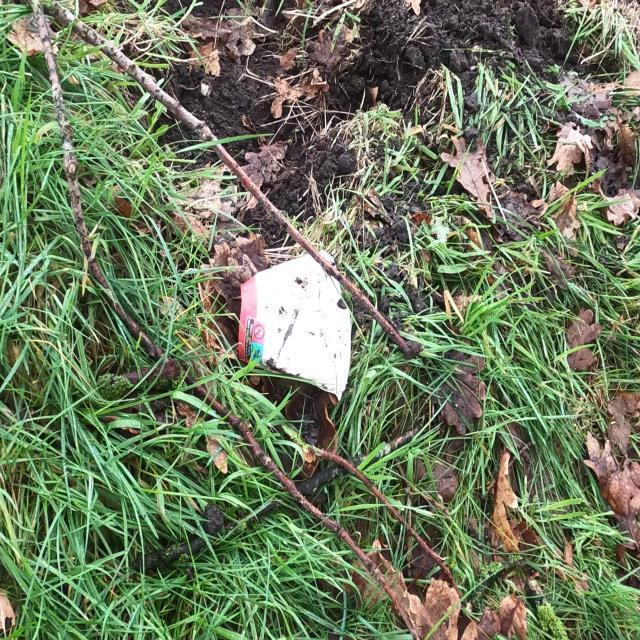Cup: (240, 247, 354, 389)
